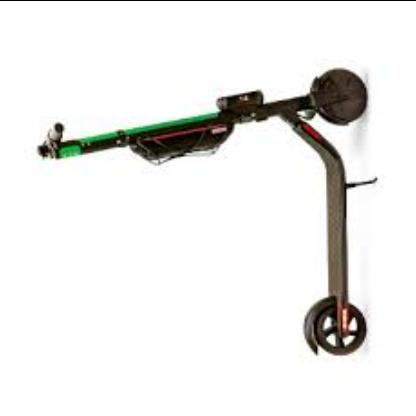bike: (40, 68, 372, 356)
